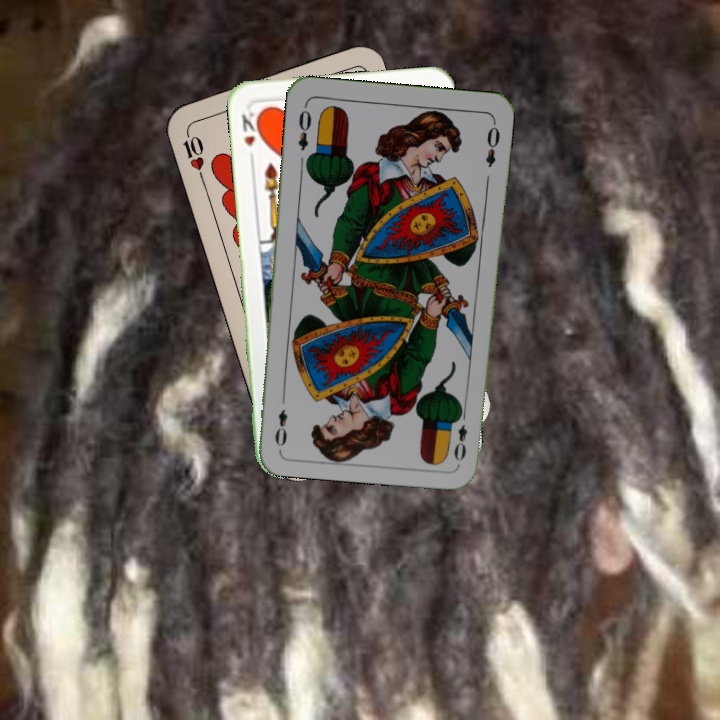EO: (450, 406, 470, 464), (293, 101, 314, 153)
H10: (179, 125, 207, 183)
HK: (238, 107, 264, 165)
